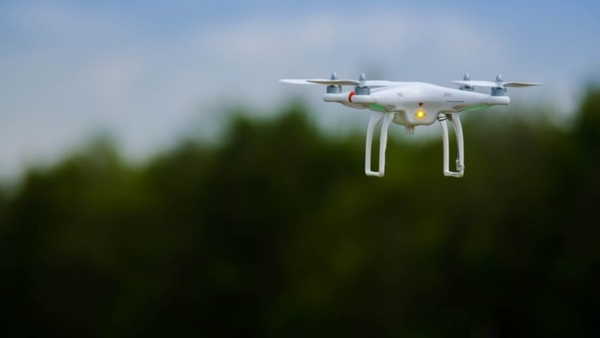drone: (278, 68, 547, 180)
